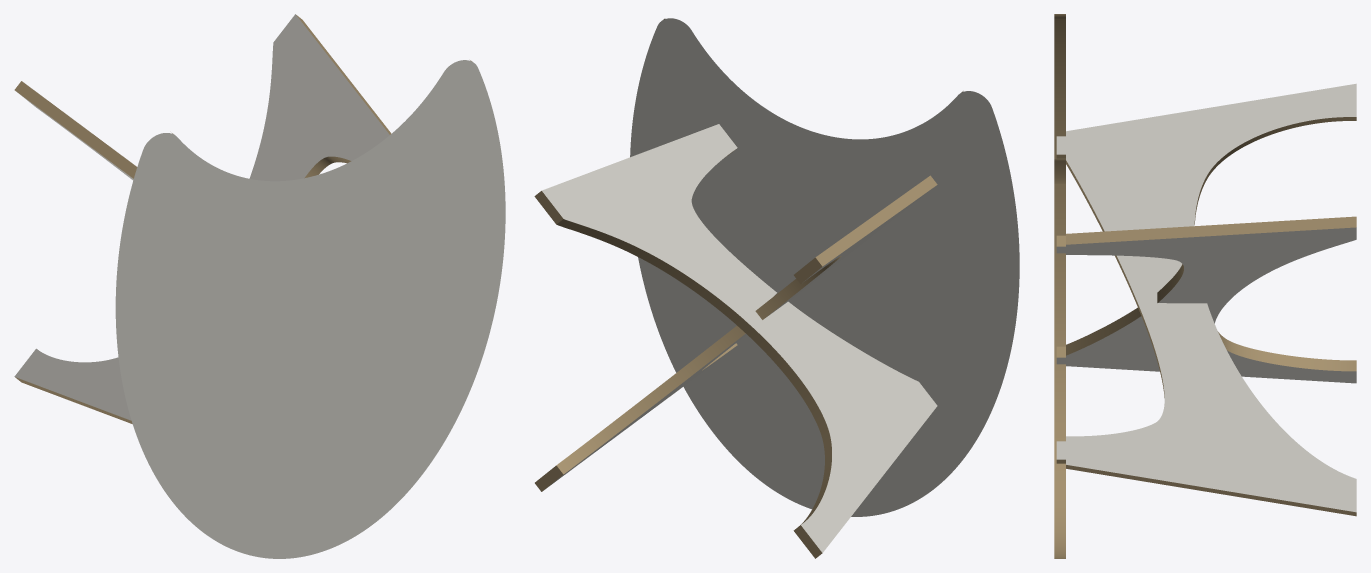
File: NODO_MESA_RATONA_EN_CRUZ_KIRI_V9.glb
3 renders of one model, left to right at view 1: azimuth 30°, elevation 25°; view 2: azimuth 150°, elevation 25°; view 3: azimuth 270°, elevation 25°, orthographic.
Visible parts, largest first — view 1: Tapa_cuerpo, Pata_A_cuerpo, Pata_B_canto, Pata_A_canto; view 2: Tapa_cuerpo, Pata_A_cuerpo, Pata_B_canto, Pata_A_canto, Pata_B_cuerpo; view 3: Pata_B_cuerpo, Pata_A_cuerpo, Pata_A_canto, Tapa_canto, Pata_B_canto.
Part boxes in pixels (left/top/right/bottom): Tapa_cuerpo: left=115, top=60, right=505, bottom=558; Pata_A_cuerpo: left=14, top=14, right=389, bottom=420; Pata_B_canto: left=14, top=81, right=137, bottom=178; Pata_A_canto: left=15, top=15, right=391, bottom=423; Tapa_cuerpo: left=630, top=18, right=1019, bottom=516; Pata_A_cuerpo: left=542, top=124, right=937, bottom=552; Pata_B_canto: left=535, top=175, right=937, bottom=491; Pata_A_canto: left=534, top=149, right=831, bottom=558; Pata_B_cuerpo: left=545, top=187, right=933, bottom=489; Pata_B_cuerpo: left=1056, top=83, right=1356, bottom=512; Pata_A_cuerpo: left=1056, top=227, right=1356, bottom=383; Pata_A_canto: left=1056, top=216, right=1356, bottom=371; Tapa_canto: left=1054, top=14, right=1065, bottom=558; Pata_B_canto: left=1056, top=117, right=1356, bottom=516.
Bounding box in the file's own units: 0.6924 × 0.7771 × 0.468.
